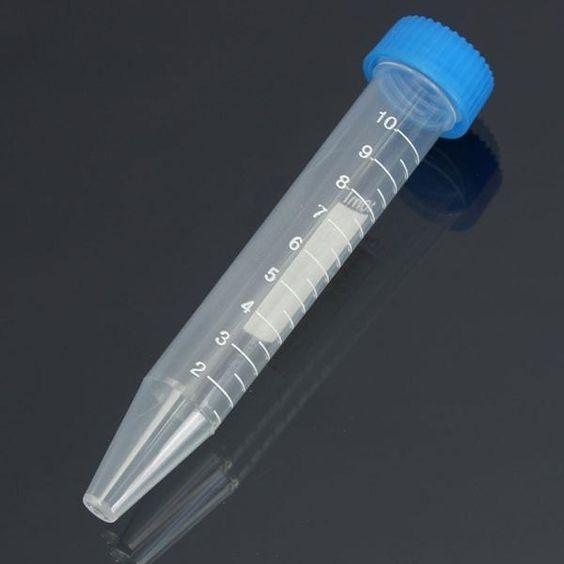PP: (84, 13, 495, 528)
